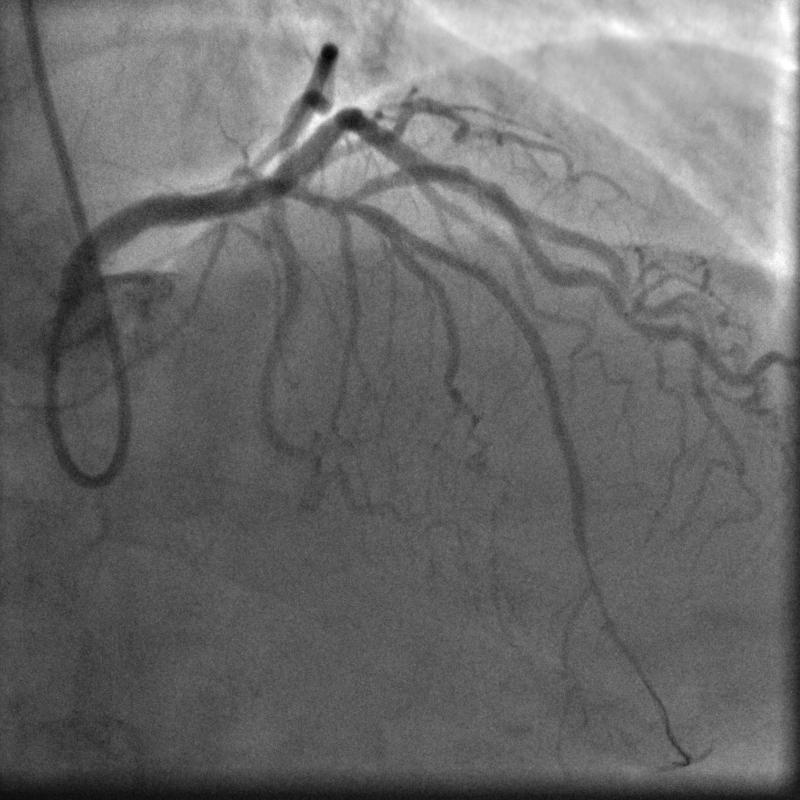Stenosis: (452, 159, 501, 209)
